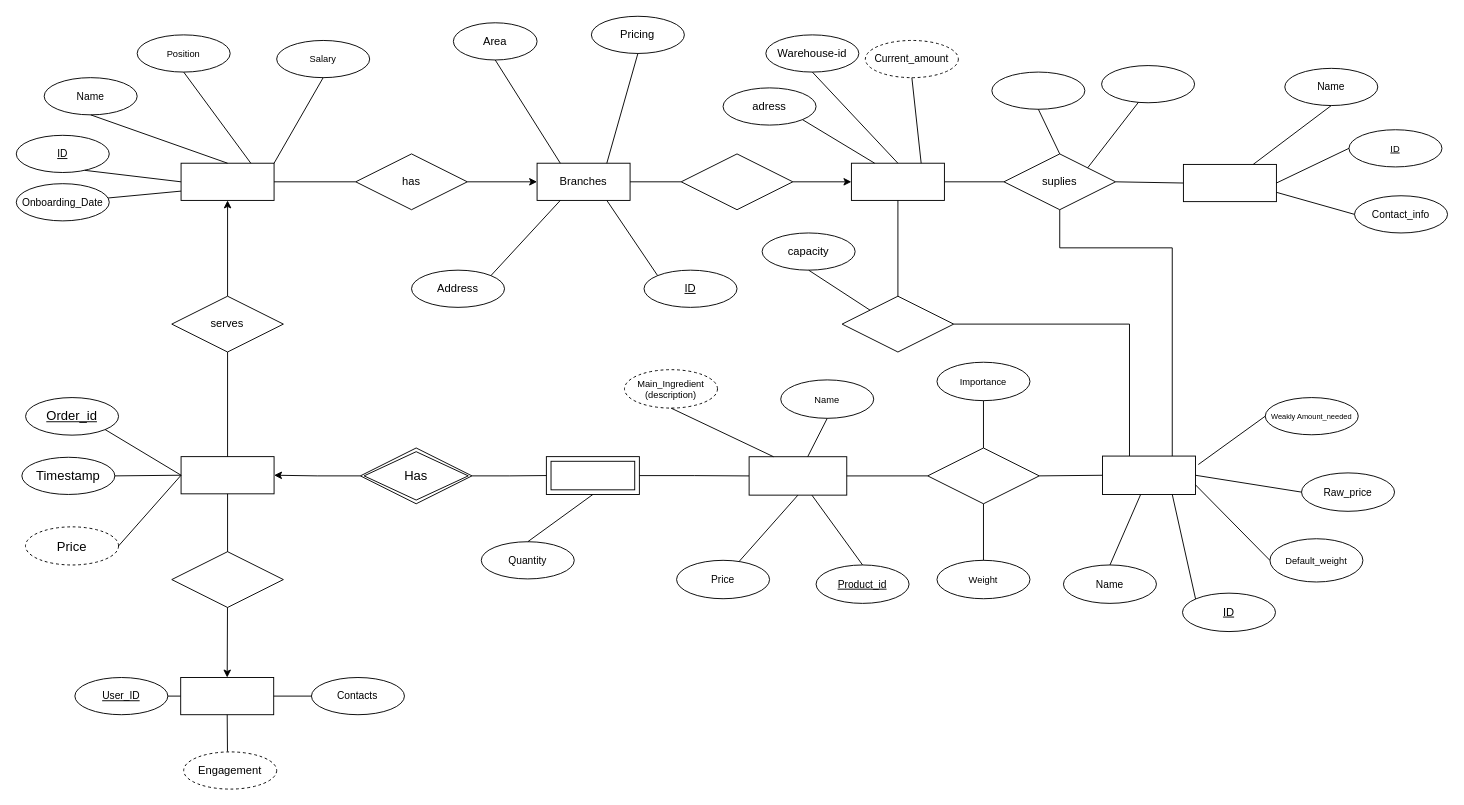
Some shapes in this 1464 by 805 pixel diagram are drawn without their labels. The shapes that lost their labels are listed below. From the top down, each one's centre as x and y in pixels, then its label:
At (1038,90): "amount".
At (1148,84): "supplied_date".
At (227,181): "Employees".
At (736,181): "possess".
At (897,181): "Warehouse".
At (1229,182): "Suppliers".
At (897,323): "stores".
At (227,475): "Orders".
At (592,475): "Order_Items".
At (797,475): "Menu_item".
At (983,475): "Consists".
At (1149,474): "Ingredients".
At (227,579): "makes".
At (227,696): "Users".
